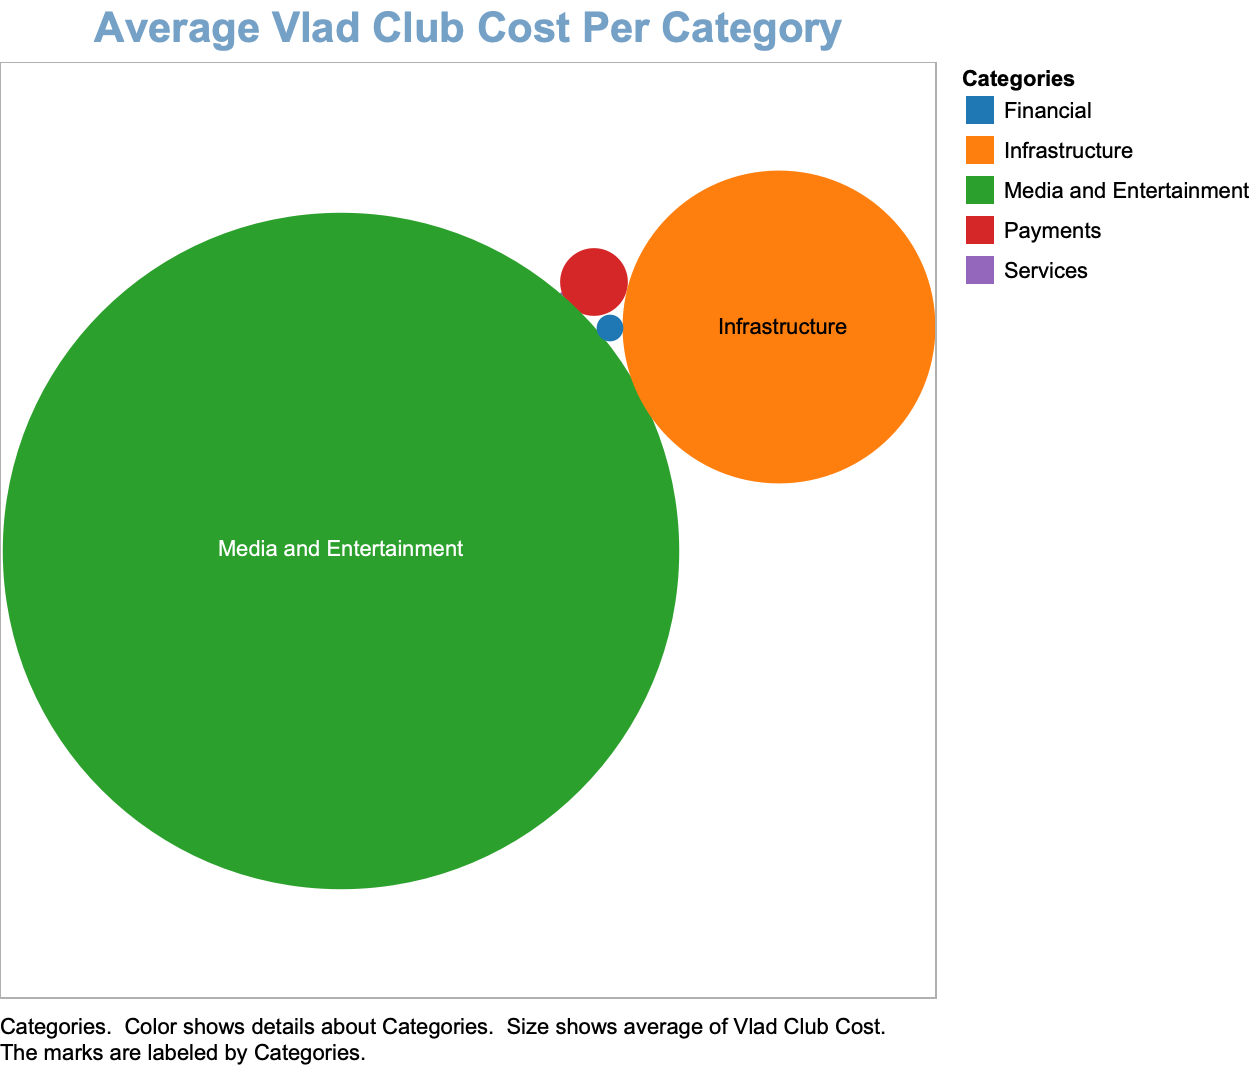

This screenshot's page, from the dashboard's own definition file:
{"tool":"tableau","page":{"name":"Dashboard 3","canvas":[1000,800],"ordinal":0},"visuals":[{"type":"title","box":[8,8,984,85]},{"type":"image","param":"/Users/kevinrodriguez/Desktop/Final_Project/FinalProject_CryptoAnalysis/crypto-i","box":[8,93,984,699]}]}

Visuals, with their boxes on the page's 1000x800 design canvas (x1, y1, x2, y2). These are canvas units, not pixel positions in the 1258x1068 screenshot, which may show the page scaled, cropped or inside an application window:
title: box=[8, 8, 992, 93]
image: box=[8, 93, 992, 792]
